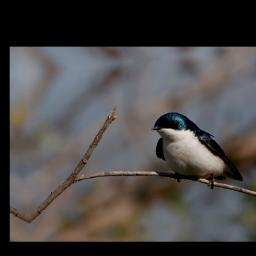Swallow: (151, 105, 246, 196)
